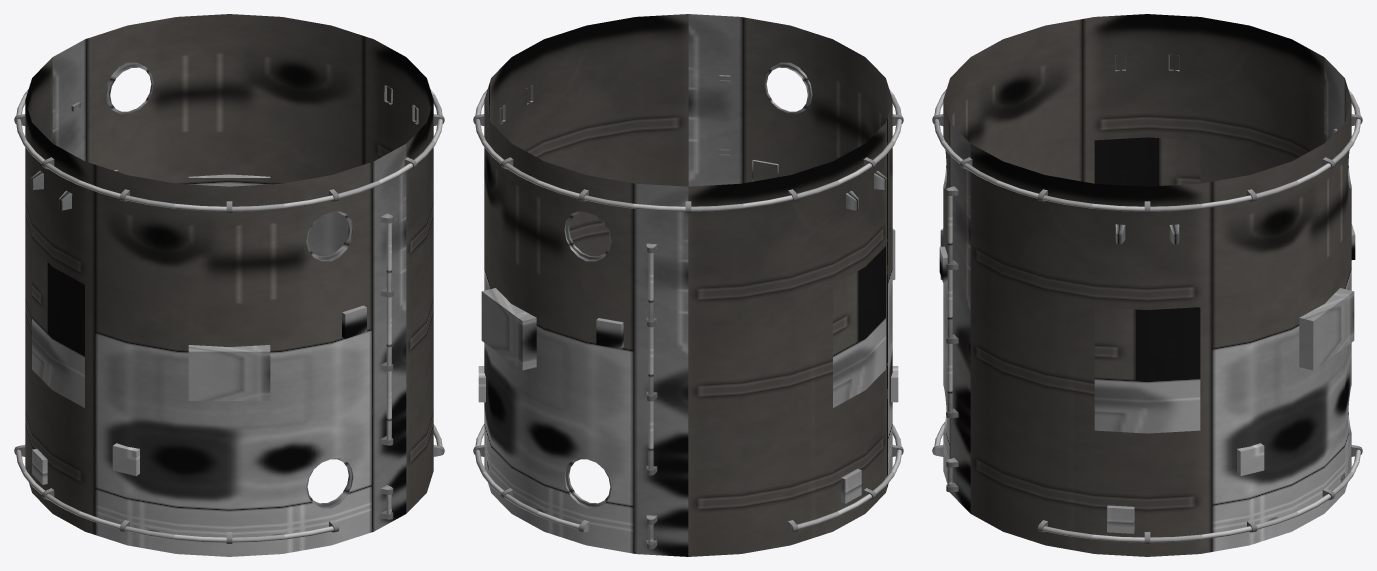
Rendered from priroda lab plain.obj.
3 views of the same model, side by side, from view 1: azimuth 30°, elevation 25°; view 2: azimuth 150°, elevation 25°; view 3: azimuth 270°, elevation 25° (orthographic).
Parts seen in each view (by area): view 1: 1.064_1.065; view 2: 1.064_1.065; view 3: 1.064_1.065.
Boxes of the visible parts, left/top/right/bottom form: 1.064_1.065: left=14, top=14, right=444, bottom=556; 1.064_1.065: left=473, top=14, right=903, bottom=556; 1.064_1.065: left=932, top=14, right=1362, bottom=556.
Bounding box in the file's own units: 1.98 × 1.88 × 1.98.
